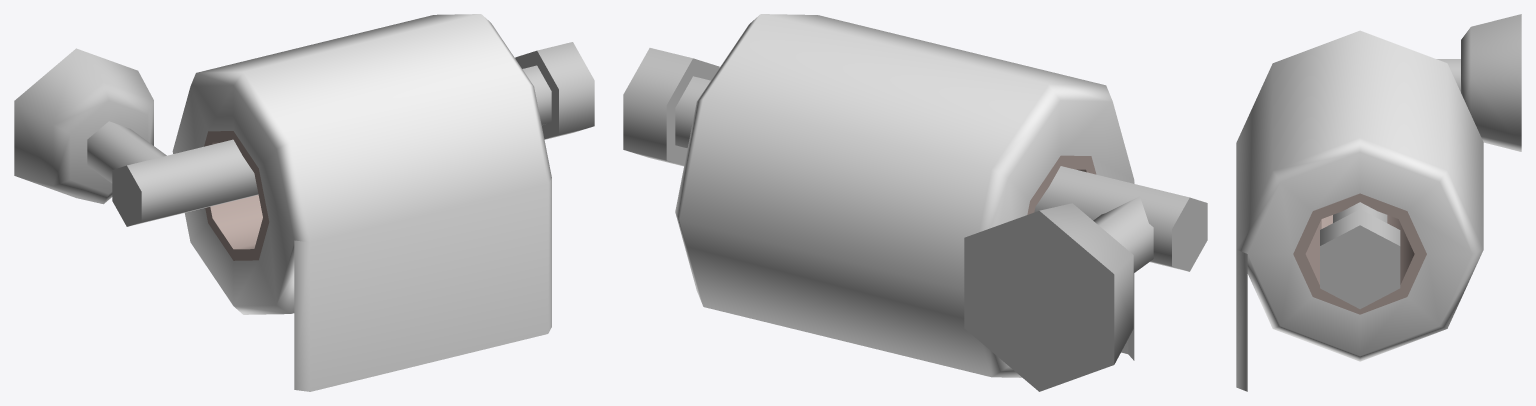
Rendered from bathroom_006.fbx.
3 views of the same model, side by side, from view 1: azimuth 30°, elevation 25°; view 2: azimuth 150°, elevation 25°; view 3: azimuth 270°, elevation 25° (orthographic). The views are drawn at different scales.
Parts seen in each view (by area): view 1: bathroom_006; view 2: bathroom_006; view 3: bathroom_006.
Part boxes in pixels (bbox=[...]): bathroom_006: bbox=[14, 14, 594, 391]; bathroom_006: bbox=[623, 14, 1207, 391]; bathroom_006: bbox=[1236, 14, 1521, 391].
Bounding box in the file's own units: 32.45 × 18.43 × 17.83.
